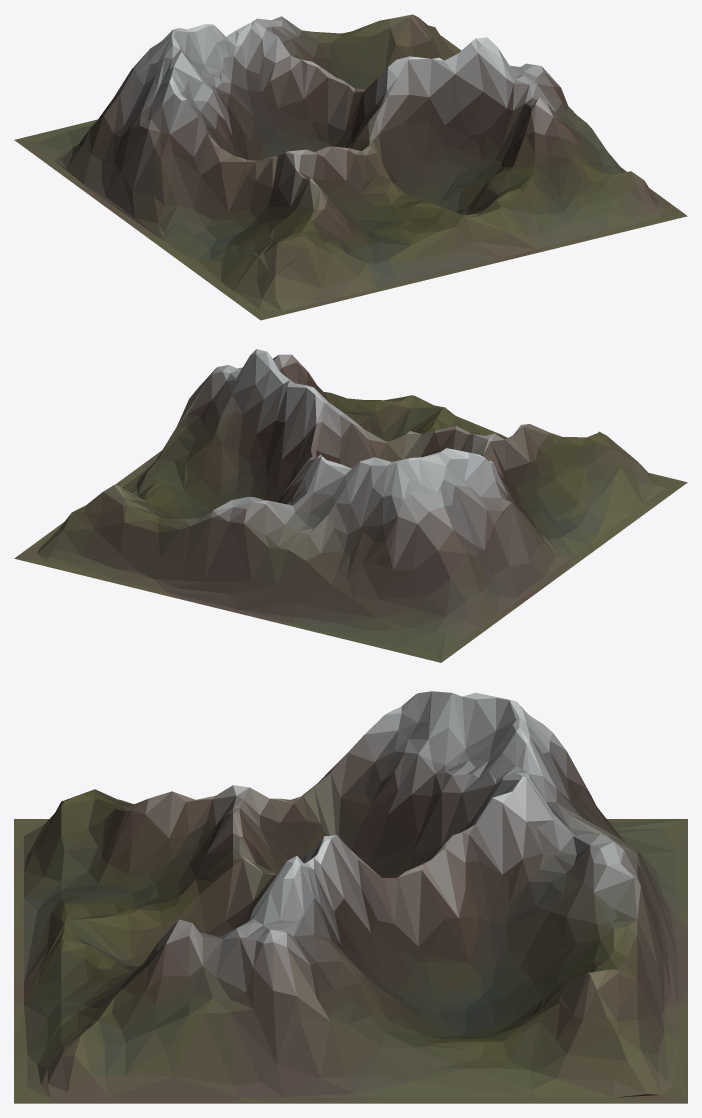
File: Sylvan-Snow_D.fbx
3 renders of one model, top to bottom at view 1: azimuth 30°, elevation 25°; view 2: azimuth 150°, elevation 25°; view 3: azimuth 270°, elevation 25°, orthographic. The views are drawn at different scales.
Parts seen in each view (by area): view 1: Sylvan-Snow_D; view 2: Sylvan-Snow_D; view 3: Sylvan-Snow_D.
Part boxes in pixels (box(x1,y1,x2,y2)): Sylvan-Snow_D: box(14, 14, 687, 320); Sylvan-Snow_D: box(14, 349, 687, 662); Sylvan-Snow_D: box(14, 691, 687, 1103).
Size of the model in its own units: 10000 by 2990 by 10000.
